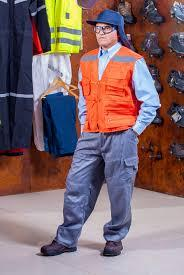hat: (84, 4, 141, 36)
vest: (73, 36, 162, 146)
